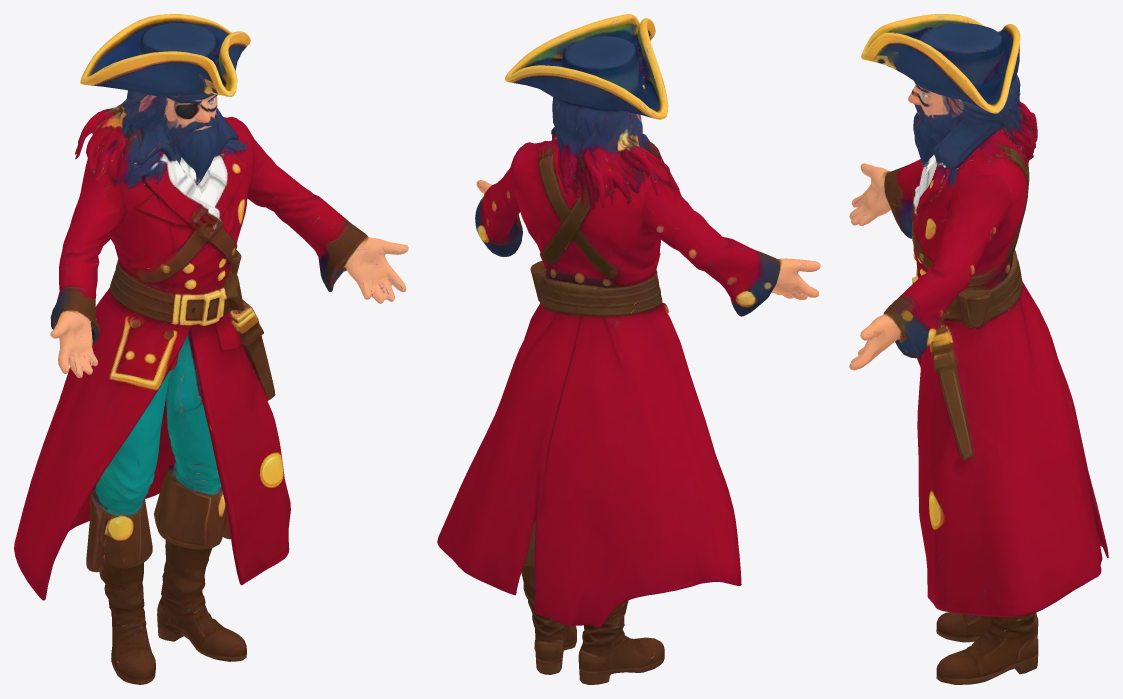
Rendered from pirate_captain.glb.
3 renders of one model, left to right at view 1: azimuth 30°, elevation 25°; view 2: azimuth 150°, elevation 25°; view 3: azimuth 270°, elevation 25°, orthographic. The views are drawn at different scales.
Parts seen in each view (by area): view 1: Mesh1.0; view 2: Mesh1.0; view 3: Mesh1.0.
Part boxes in pixels (bbox=[...]): Mesh1.0: bbox=[14, 14, 408, 684]; Mesh1.0: bbox=[437, 14, 820, 684]; Mesh1.0: bbox=[849, 14, 1108, 684].
Size of the model in its own units: 1.12 by 1.9 by 0.7103.
1 material, 1 textured.
